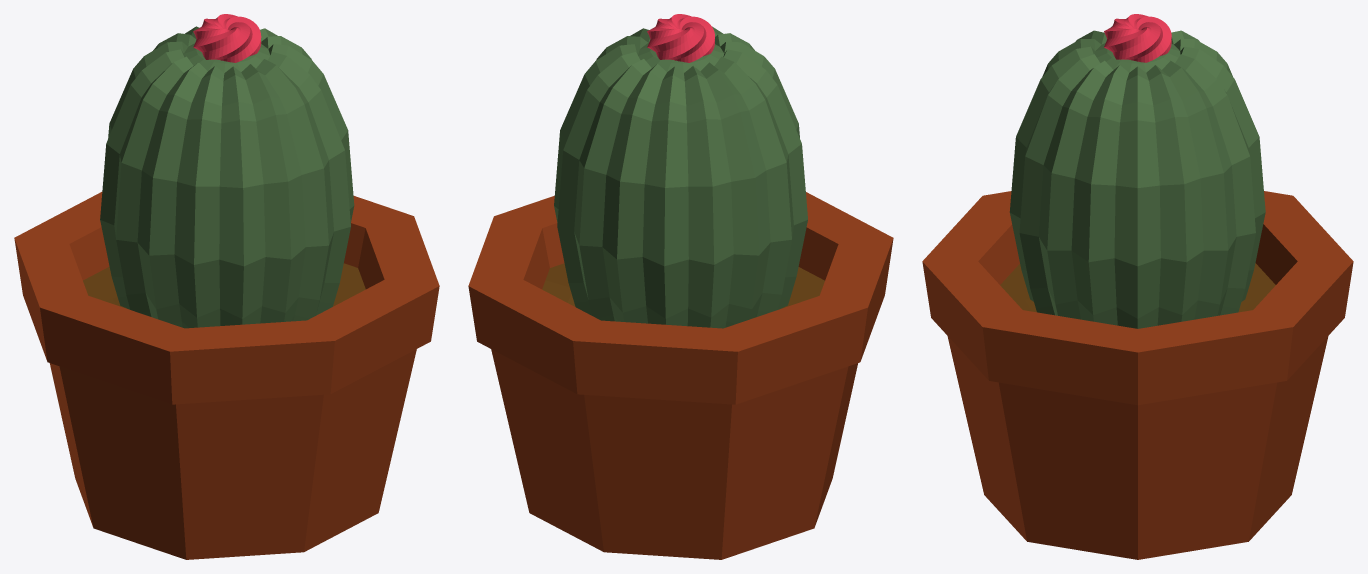
Rendered from cactus2.glb.
3 renders of one model, left to right at view 1: azimuth 30°, elevation 25°; view 2: azimuth 150°, elevation 25°; view 3: azimuth 270°, elevation 25°, orthographic.
Visible parts, largest first — view 1: pot_0, cactus_1, flower fruit thing oon the top_2; view 2: pot_0, cactus_1, flower fruit thing oon the top_2; view 3: pot_0, cactus_1, flower fruit thing oon the top_2.
Boxes of the visible parts, left/top/right/bottom form: pot_0: left=14, top=192, right=439, bottom=559; cactus_1: left=100, top=26, right=354, bottom=328; flower fruit thing oon the top_2: left=193, top=14, right=261, bottom=62; pot_0: left=468, top=192, right=893, bottom=559; cactus_1: left=554, top=26, right=807, bottom=328; flower fruit thing oon the top_2: left=647, top=14, right=714, bottom=62; pot_0: left=922, top=191, right=1353, bottom=559; cactus_1: left=1009, top=26, right=1265, bottom=328; flower fruit thing oon the top_2: left=1104, top=14, right=1171, bottom=62.
Bounding box in the file's own units: 2.77 × 3.34 × 2.77.
